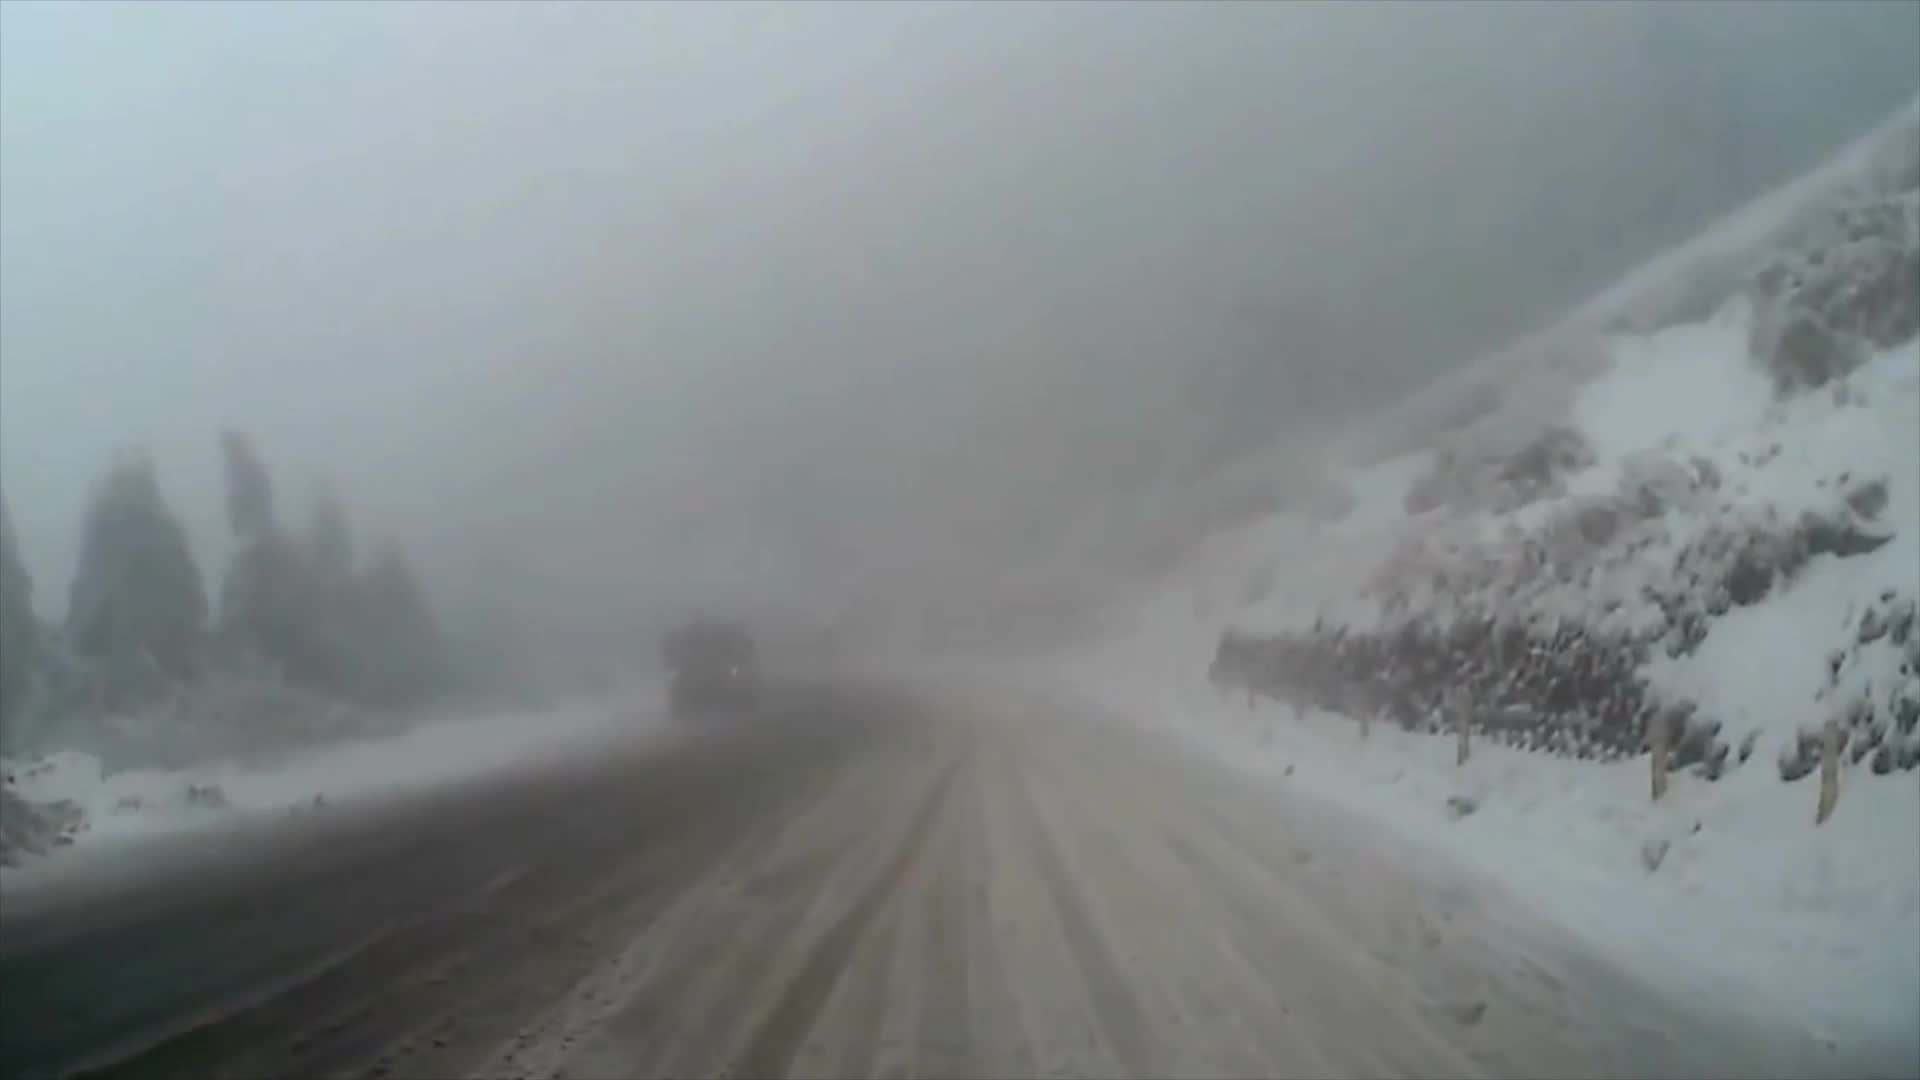vehicle: (655, 620, 761, 713)
